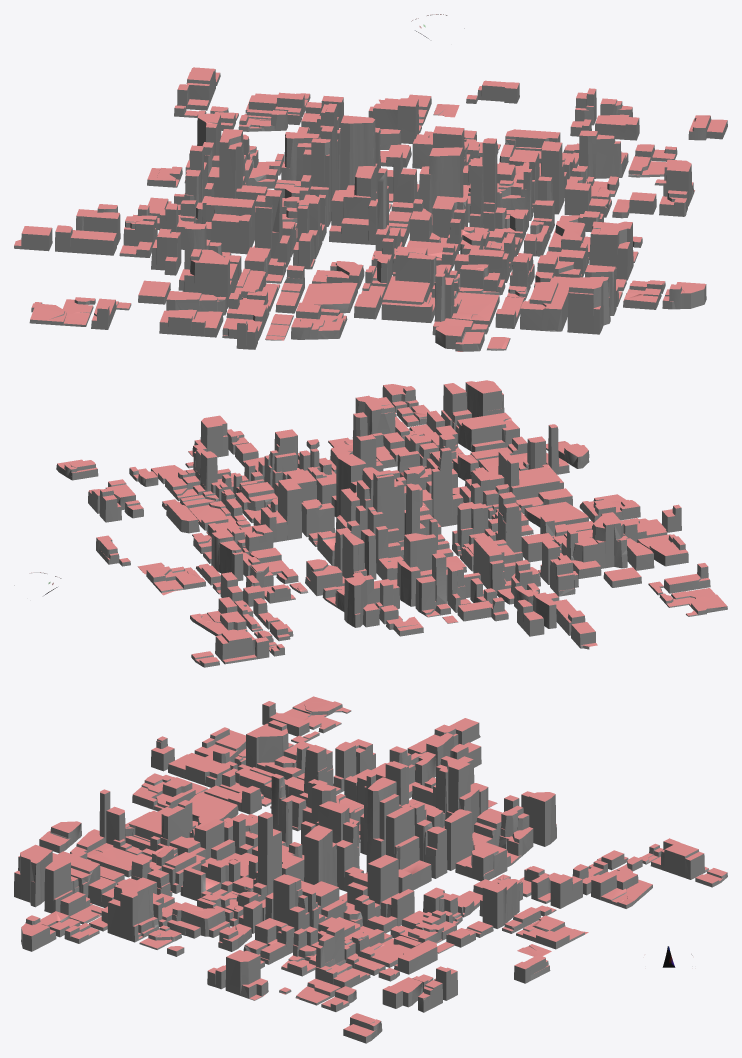
File: CS_Lights_combined.gltf
3 renders of one model, top to bottom at view 1: azimuth 30°, elevation 25°; view 2: azimuth 150°, elevation 25°; view 3: azimuth 270°, elevation 25°, orthographic. The views are drawn at different scales.
Visible parts, largest first — view 1: City_OOB_A; view 2: City_OOB_A; view 3: City_OOB_A.
Boxes of the visible parts, x1=… form: City_OOB_A: x1=14, y1=67, x2=727, y2=351; City_OOB_A: x1=56, y1=380, x2=727, y2=667; City_OOB_A: x1=14, y1=696, x2=727, y2=1043.
Bounding box in the file's own units: 6838 × 903 × 5998.
